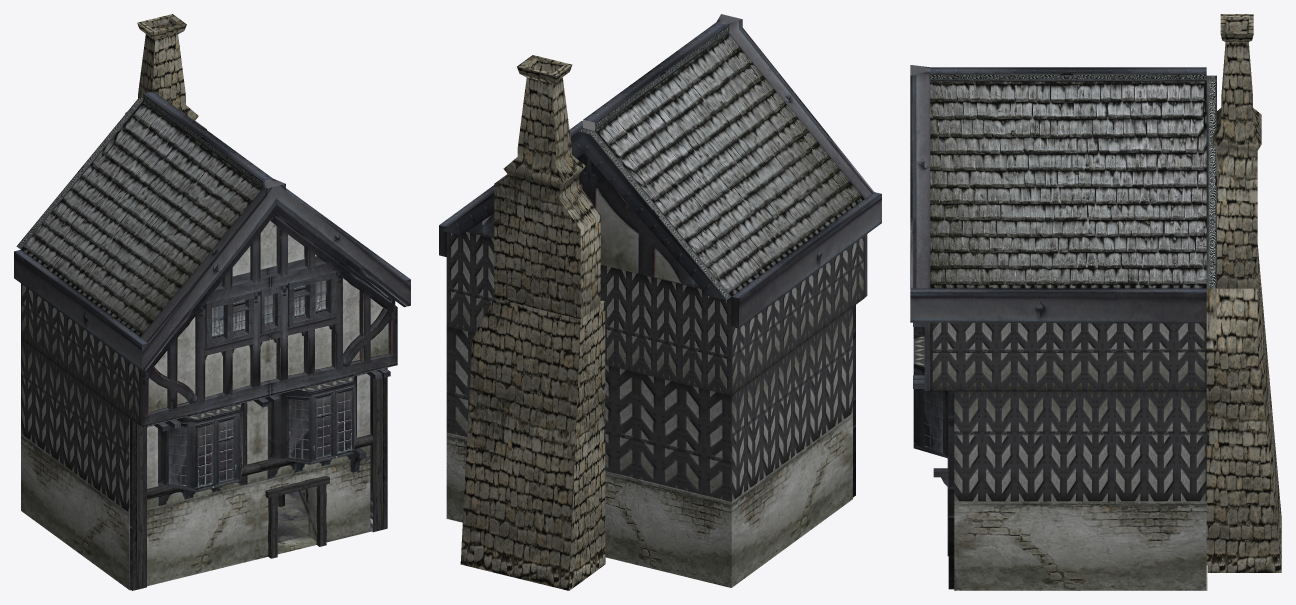
Rendered from medhouse13.fbx.
The picture shows the model from 3 angles, left to right: view 1: azimuth 30°, elevation 25°; view 2: azimuth 150°, elevation 25°; view 3: azimuth 270°, elevation 25°; orthographic projection. The views are drawn at different scales.
Parts seen in each view (by area): view 1: medhouse13, medhouse13_interior; view 2: medhouse13; view 3: medhouse13.
Boxes of the visible parts, x1,y1,x2,y2 form: medhouse13: (14, 14, 410, 590); medhouse13_interior: (277, 488, 308, 542); medhouse13: (439, 14, 881, 590); medhouse13: (910, 14, 1281, 590).
Size of the model in its own units: 1036 by 1644 by 1070.
